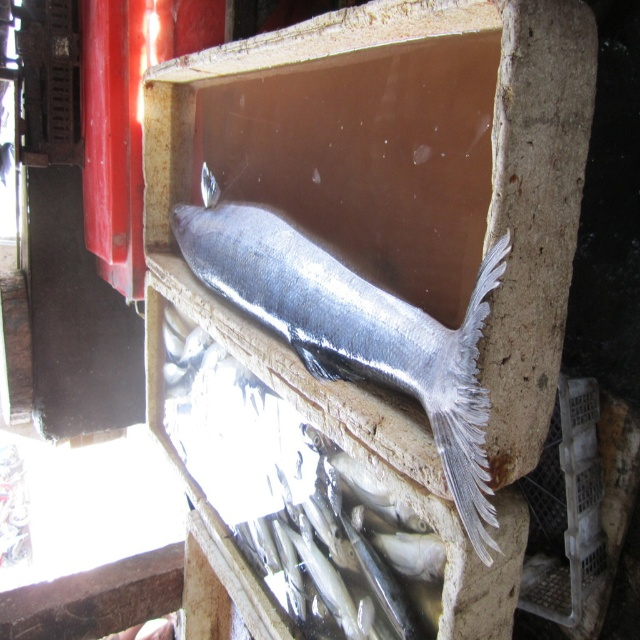Fish: (125, 88, 515, 578)
